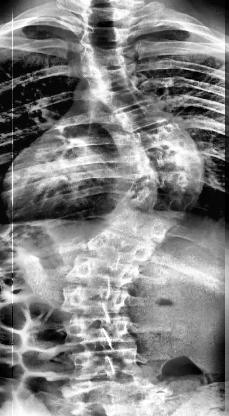Vertebrae: (118, 186, 196, 220), (66, 253, 144, 287), (67, 348, 145, 380), (102, 210, 174, 244), (86, 230, 156, 264), (63, 316, 136, 346), (60, 286, 130, 316), (132, 143, 204, 171), (114, 102, 174, 134), (133, 168, 206, 194), (90, 86, 158, 110), (128, 125, 192, 149), (74, 44, 132, 70), (78, 66, 140, 90), (80, 26, 134, 46), (82, 7, 132, 27)
